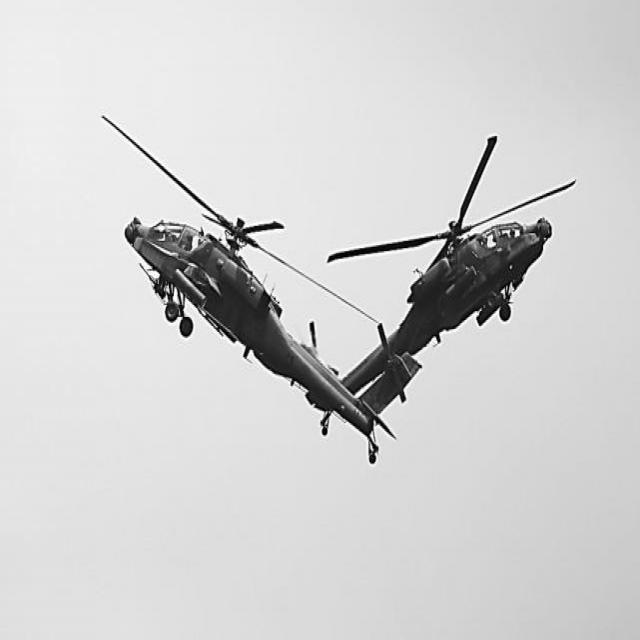MIL_HELO: (91, 96, 396, 474), (268, 124, 588, 470)
